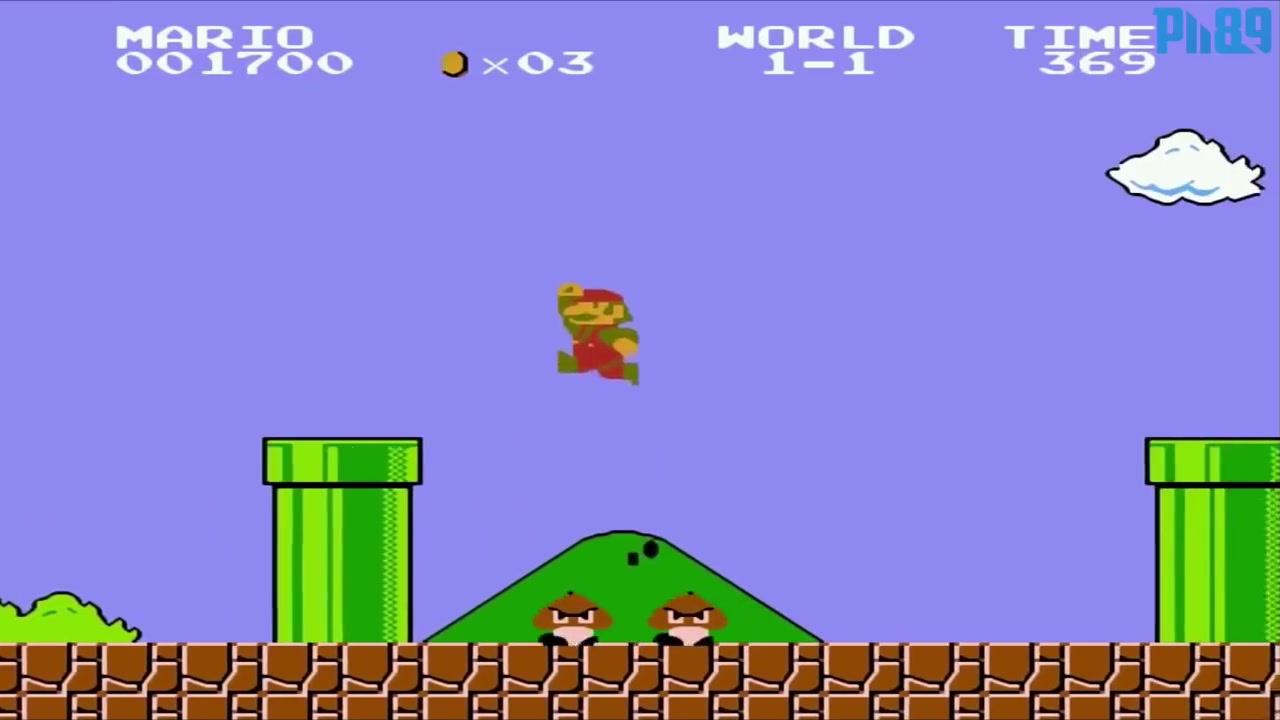mario: (543, 277, 647, 398)
